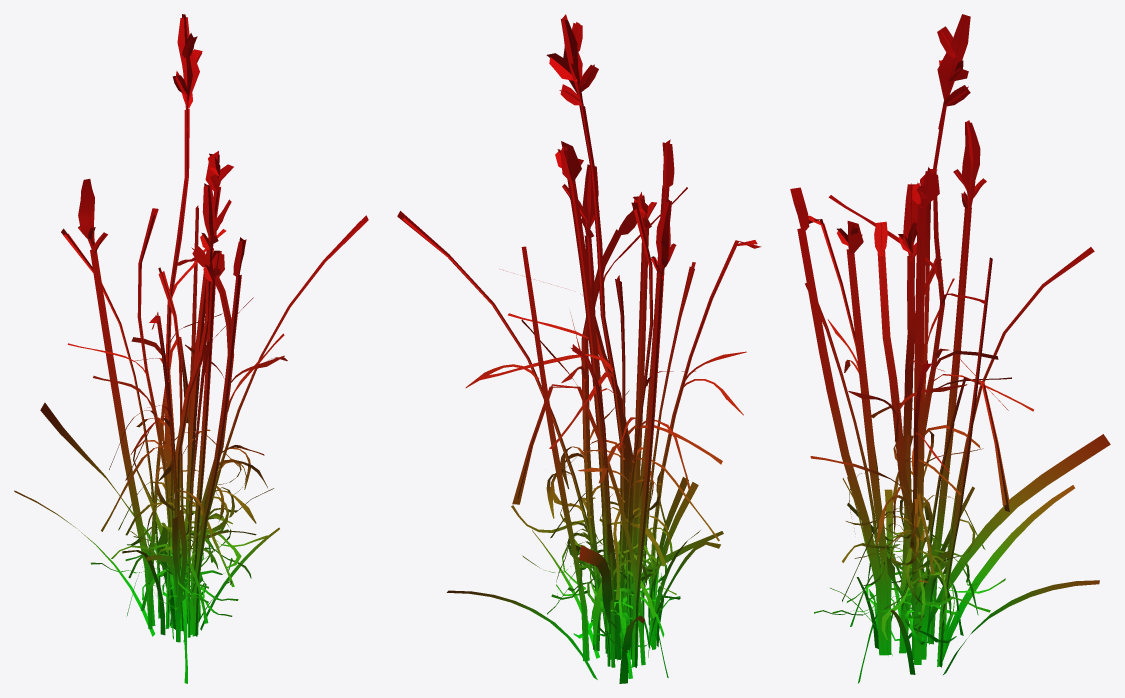
Rendered from Var3_LOD1.fbx.
The picture shows the model from 3 angles, left to right: view 1: azimuth 30°, elevation 25°; view 2: azimuth 150°, elevation 25°; view 3: azimuth 270°, elevation 25°; orthographic projection. The views are drawn at different scales.
Parts seen in each view (by area): view 1: _2aa4_Var3_LOD1; view 2: _2aa4_Var3_LOD1; view 3: _2aa4_Var3_LOD1.
Part boxes in pixels (box(x1,y1,x2,y2)): _2aa4_Var3_LOD1: box(14, 14, 368, 683); _2aa4_Var3_LOD1: box(397, 14, 761, 683); _2aa4_Var3_LOD1: box(790, 14, 1110, 683).
Size of the model in its own units: 56.88 by 117 by 48.94.
